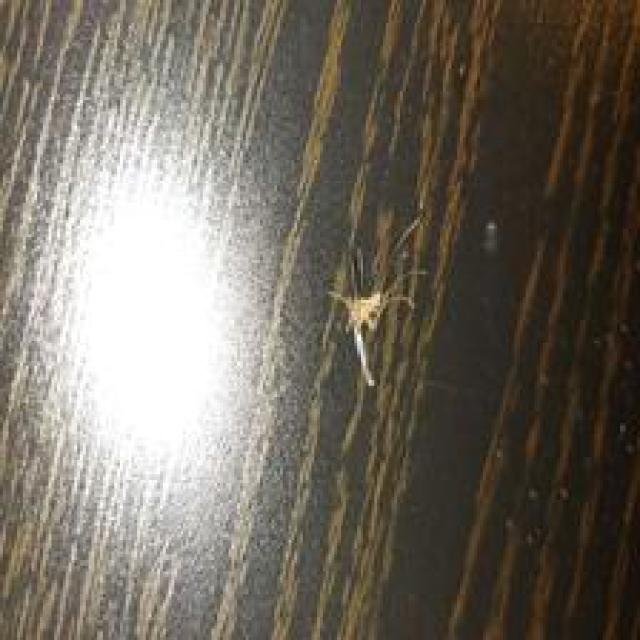Culex: (326, 214, 428, 389)
